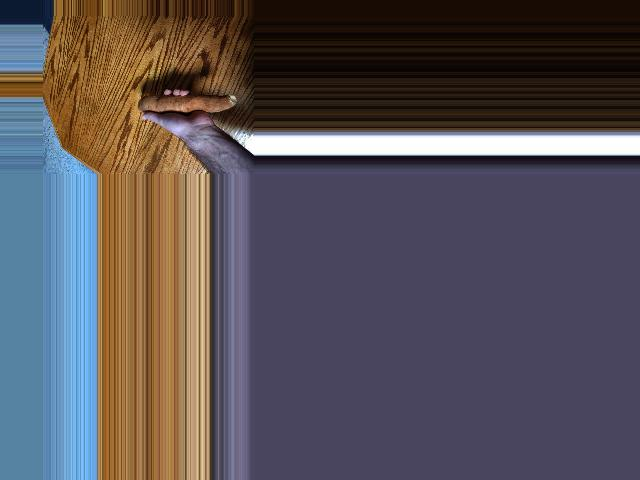sweet_potato: (137, 93, 238, 123)
